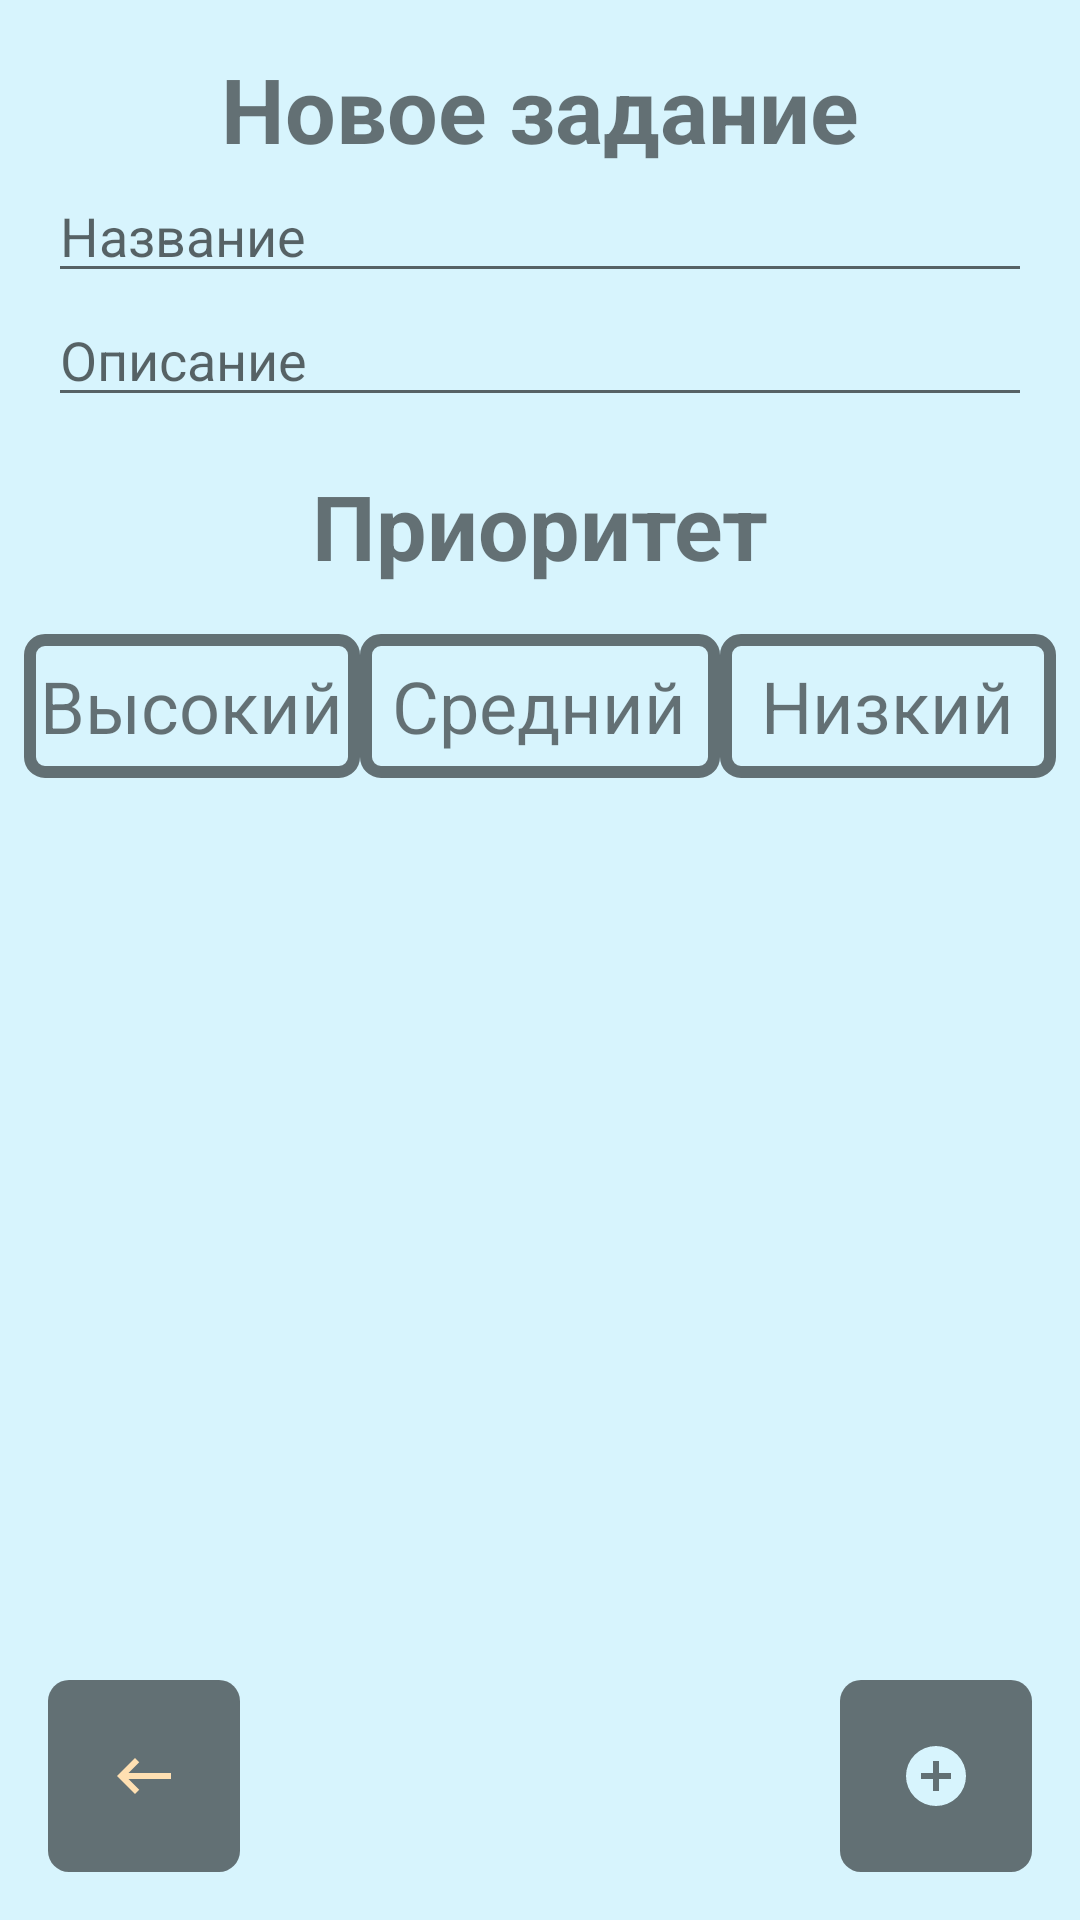

Screen size 1080px x 1920px. Icon name, then its center in pixels as (x,y):
add: (936,1776)
return: (144,1776)
